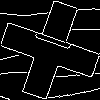I: (25, 25, 72, 53)
